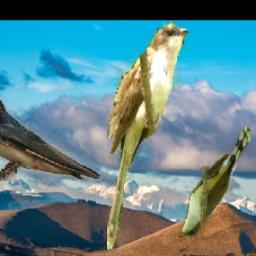Cuckoo: (106, 21, 193, 250), (178, 126, 250, 238)
Swallow: (0, 96, 101, 181)
